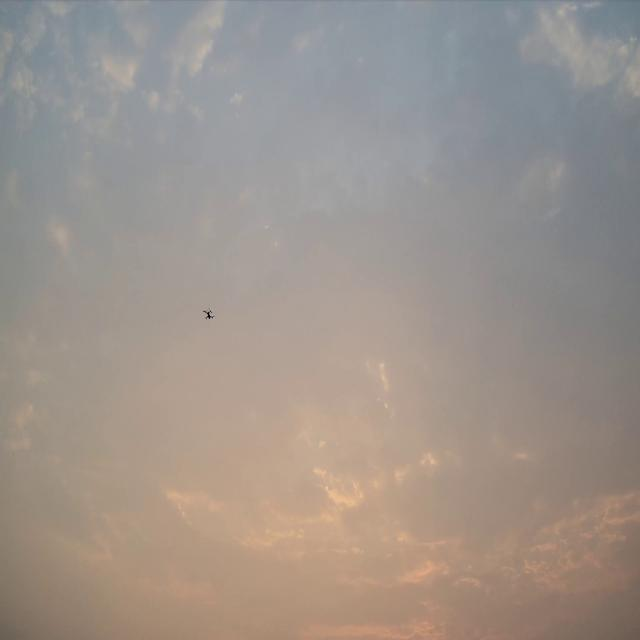UAV: (203, 307, 215, 319)
